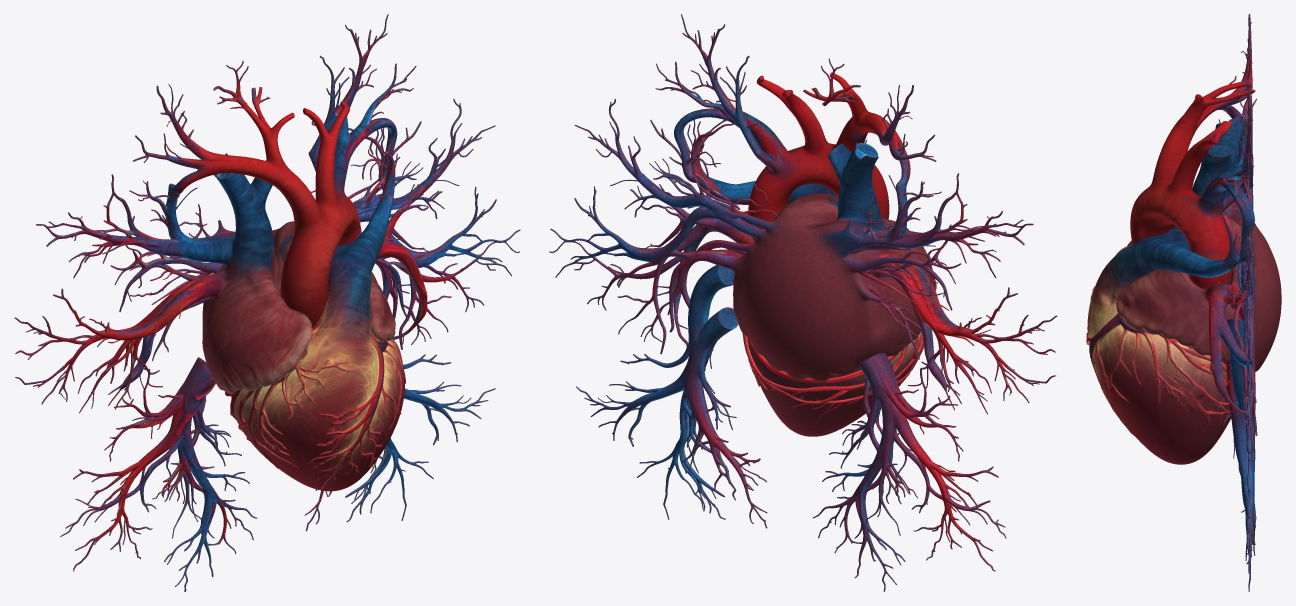
File: heart1.glb
3 renders of one model, left to right at view 1: azimuth 30°, elevation 25°; view 2: azimuth 150°, elevation 25°; view 3: azimuth 270°, elevation 25°, orthographic. The views are drawn at different scales.
Size of the model in its own units: 1.89 by 1.88 by 0.6691.
1 material, 1 textured.
